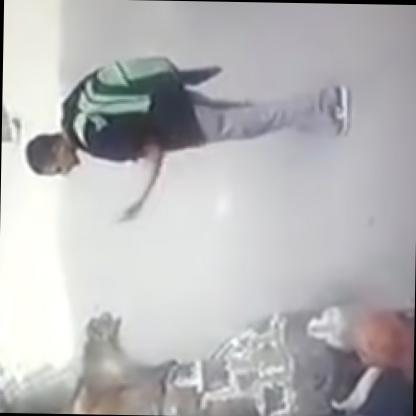Human Body: (21, 41, 352, 233)
